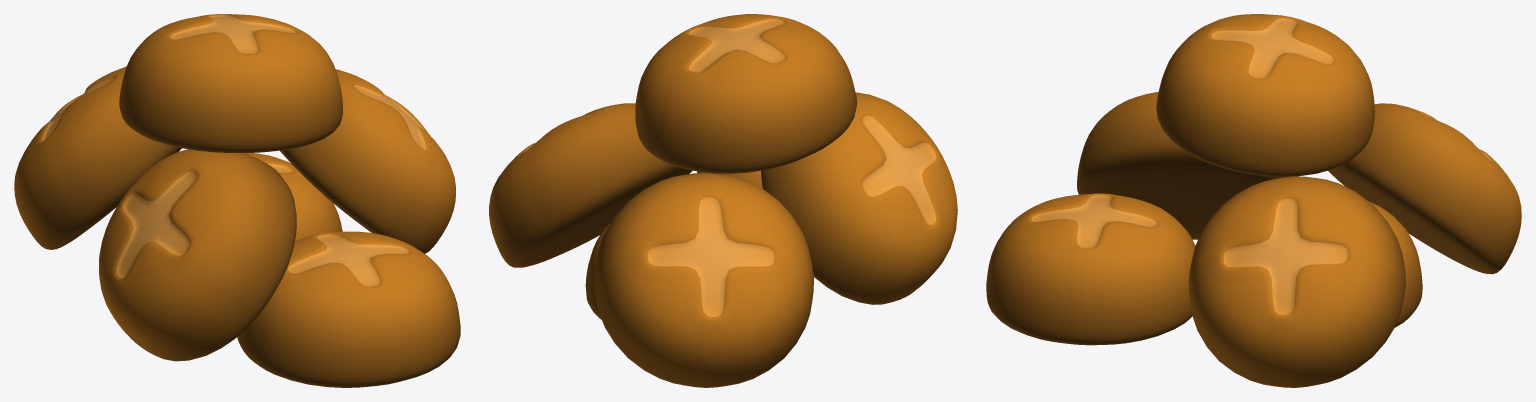
The model's file is Half_Bread.fbx.
3 views of the same model, side by side, from view 1: azimuth 30°, elevation 25°; view 2: azimuth 150°, elevation 25°; view 3: azimuth 270°, elevation 25° (orthographic). The views are drawn at different scales.
Visible parts, largest first — view 1: Half_Bread; view 2: Half_Bread; view 3: Half_Bread.
Part boxes in pixels (x1=…): Half_Bread: x1=14, y1=14, x2=460, y2=387; Half_Bread: x1=489, y1=14, x2=957, y2=387; Half_Bread: x1=986, y1=14, x2=1521, y2=387.
Size of the model in its own units: 23.27 by 15.54 by 28.93.
